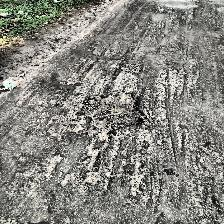pothole: (81, 90, 145, 130)
